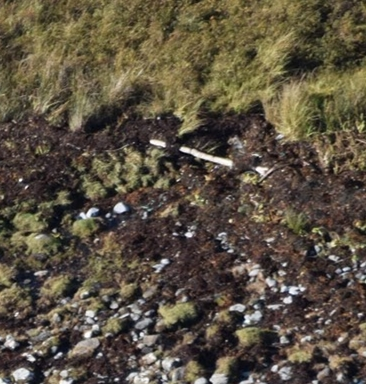straight_bar: (148, 134, 236, 169)
